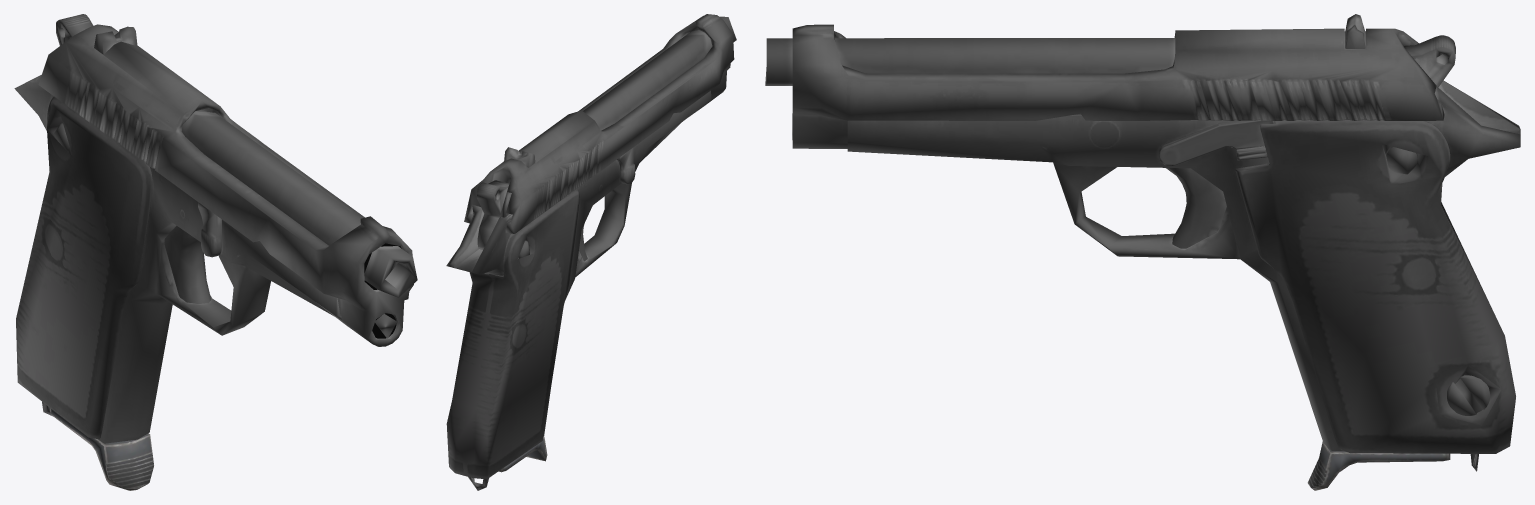
3 views of the same model, side by side, from view 1: azimuth 30°, elevation 25°; view 2: azimuth 150°, elevation 25°; view 3: azimuth 270°, elevation 25° (orthographic). The views are drawn at different scales.
Parts seen in each view (by area): view 1: Helwan, Slide, Magazine, Trigger, SlideLock, Hammer; view 2: Helwan, Slide, Hammer, SlideLock, Magazine; view 3: Helwan, Slide, SlideCatch, Trigger, Magazine, Hammer, MagRelease.
Part boxes in pixels (bbox=[...]): Helwan: bbox=[14, 75, 417, 443]; Slide: bbox=[38, 24, 413, 346]; Magazine: bbox=[50, 408, 153, 490]; Trigger: bbox=[164, 226, 211, 303]; SlideLock: bbox=[198, 202, 221, 257]; Hammer: bbox=[56, 14, 93, 45]; Helwan: bbox=[446, 16, 736, 490]; Slide: bbox=[464, 14, 734, 233]; Hammer: bbox=[476, 180, 509, 249]; SlideLock: bbox=[617, 147, 635, 184]; Magazine: bbox=[498, 436, 547, 472]; Helwan: bbox=[765, 38, 1520, 471]; Slide: bbox=[792, 14, 1444, 148]; SlideCatch: bbox=[1159, 120, 1274, 165]; Trigger: bbox=[1166, 168, 1226, 248]; Magazine: bbox=[1307, 441, 1450, 490]; Hammer: bbox=[1403, 35, 1455, 87]; MagRelease: bbox=[1447, 375, 1490, 415].
Size of the model in its own units: 1.01 by 6.03 by 8.92.
3 materials, 2 textured.
